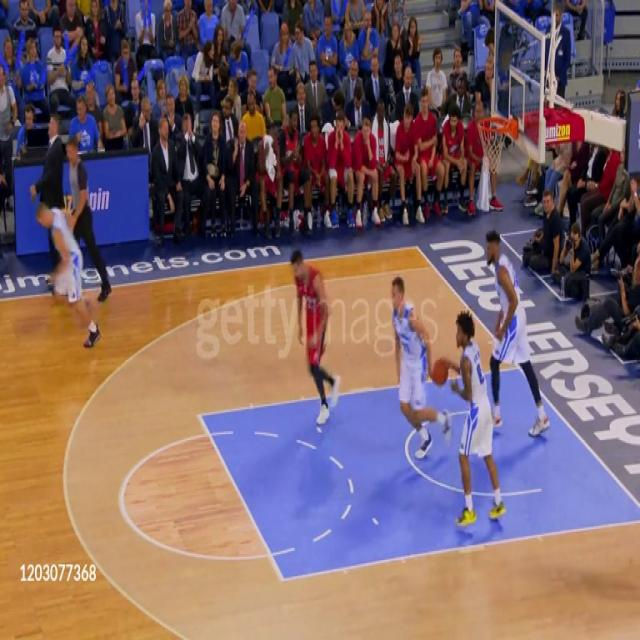ball: (430, 357, 449, 391)
